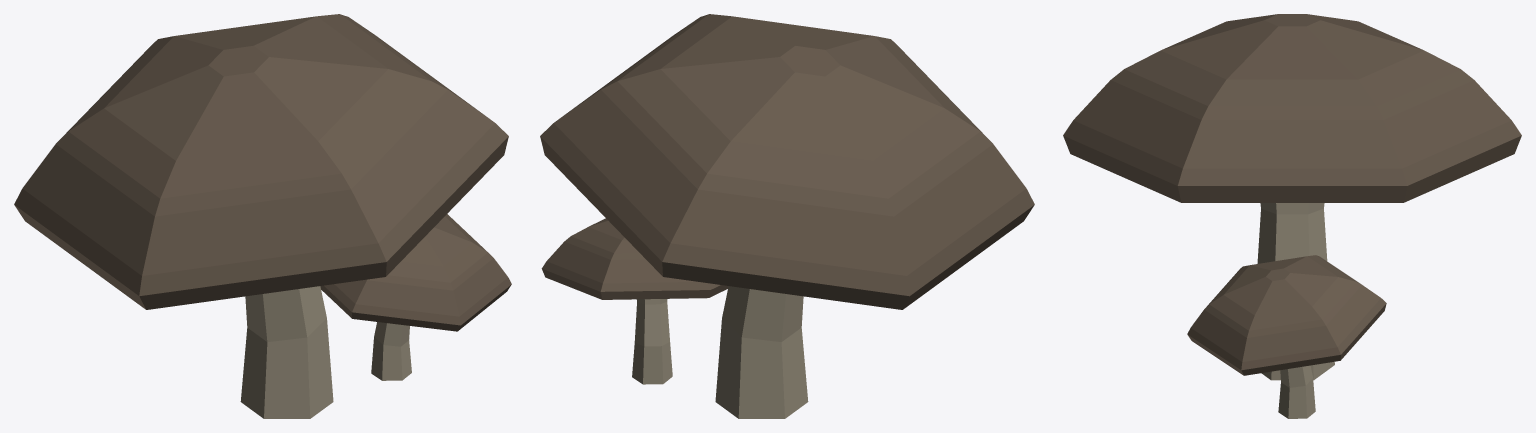
The model's file is mushroom2.fbx.
3 views of the same model, side by side, from view 1: azimuth 30°, elevation 25°; view 2: azimuth 150°, elevation 25°; view 3: azimuth 270°, elevation 25° (orthographic). The views are drawn at different scales.
Visible parts, largest first — view 1: head2, head2.001, body2, body2.001; view 2: head2, body2, head2.001, body2.001; view 3: head2, head2.001, body2, body2.001.
Part boxes in pixels (left/top/right/bottom): head2: left=14, top=14, right=508, bottom=309; head2.001: left=320, top=214, right=511, bottom=331; body2: left=240, top=286, right=333, bottom=418; body2.001: left=371, top=322, right=411, bottom=380; head2: left=540, top=14, right=1034, bottom=309; body2: left=715, top=286, right=808, bottom=418; head2.001: left=541, top=218, right=728, bottom=299; body2.001: left=632, top=299, right=672, bottom=384; head2: left=1063, top=14, right=1521, bottom=202; head2.001: left=1187, top=255, right=1386, bottom=375; body2: left=1257, top=203, right=1334, bottom=380; body2.001: left=1278, top=365, right=1315, bottom=418.
Bounding box in the file's own units: 2.56 × 2.15 × 2.73.
